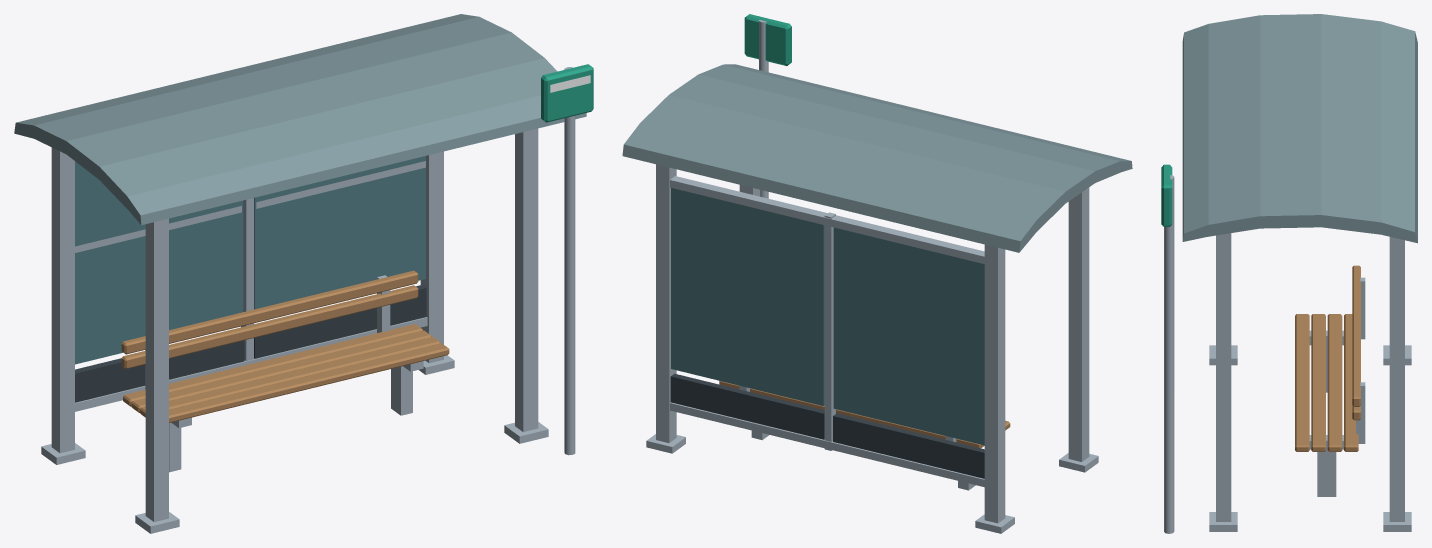
File: bus_stop.glb
3 renders of one model, left to right at view 1: azimuth 30°, elevation 25°; view 2: azimuth 150°, elevation 25°; view 3: azimuth 270°, elevation 25°, orthographic. The views are drawn at different scales.
Visible parts, largest first — view 1: bus_stop; view 2: bus_stop; view 3: bus_stop.
Part boxes in pixels (left/top/right/bottom): bus_stop: left=14, top=14, right=593, bottom=533; bus_stop: left=622, top=14, right=1132, bottom=533; bus_stop: left=1161, top=14, right=1417, bottom=533.
Bounding box in the file's own units: 3.5 × 2.88 × 1.89.
